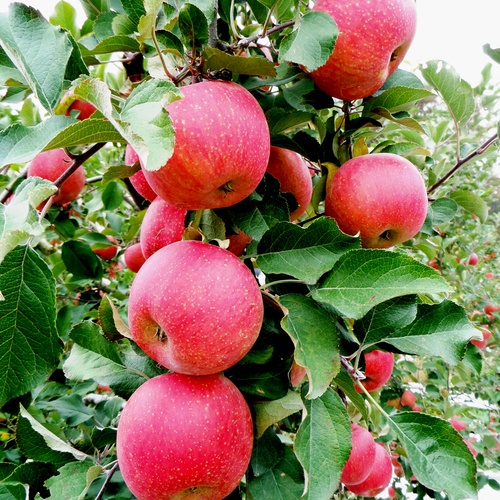apple: (124, 238, 261, 375), (117, 370, 257, 500), (147, 79, 270, 212), (294, 1, 419, 101), (322, 152, 427, 256), (268, 145, 314, 221), (25, 149, 84, 197), (335, 425, 377, 482), (351, 348, 395, 391)
